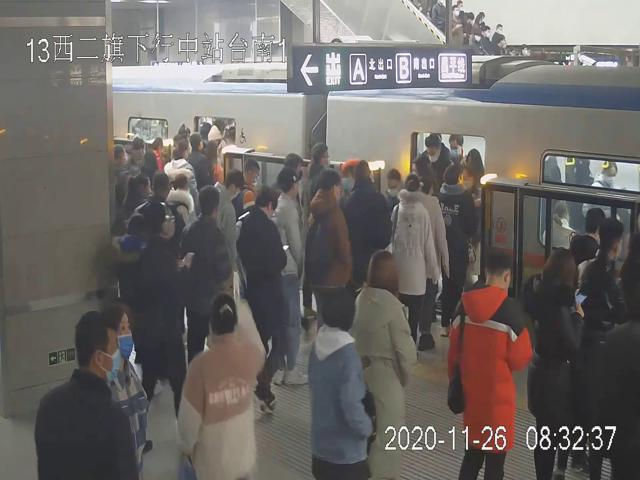person: (447, 244, 535, 480), (177, 292, 267, 480), (356, 248, 418, 480), (527, 246, 585, 480), (309, 286, 371, 480), (238, 186, 289, 414), (180, 184, 231, 363), (394, 173, 439, 351), (275, 168, 311, 390), (306, 170, 356, 323), (439, 164, 477, 340)
